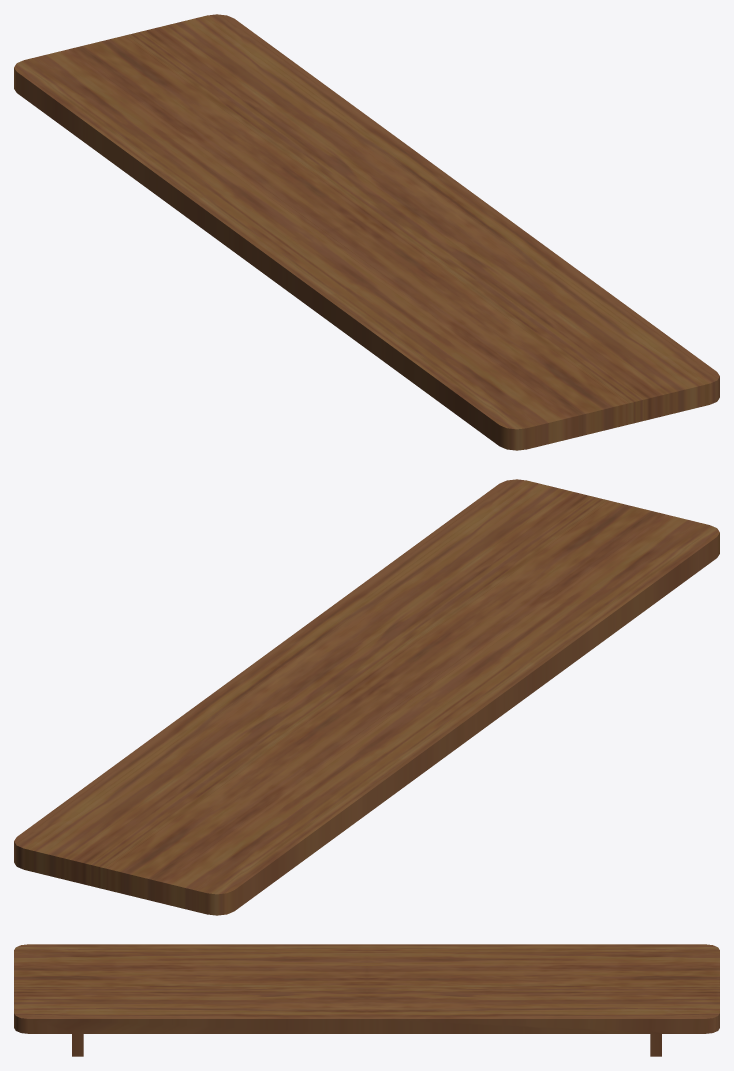
Rendered from CI_105_shelf_var1.glb.
3 renders of one model, top to bottom at view 1: azimuth 30°, elevation 25°; view 2: azimuth 150°, elevation 25°; view 3: azimuth 270°, elevation 25°, orthographic. The views are drawn at different scales.
Parts seen in each view (by area): view 1: shelf; view 2: shelf; view 3: shelf.
Boxes of the visible parts, x1,y1,x2,y2 form: shelf: (14, 14, 719, 450); shelf: (14, 479, 719, 915); shelf: (14, 944, 719, 1056).
Size of the model in its own units: 0.75 by 0.1765 by 3.
Materials: 1 (1 with a texture image).
